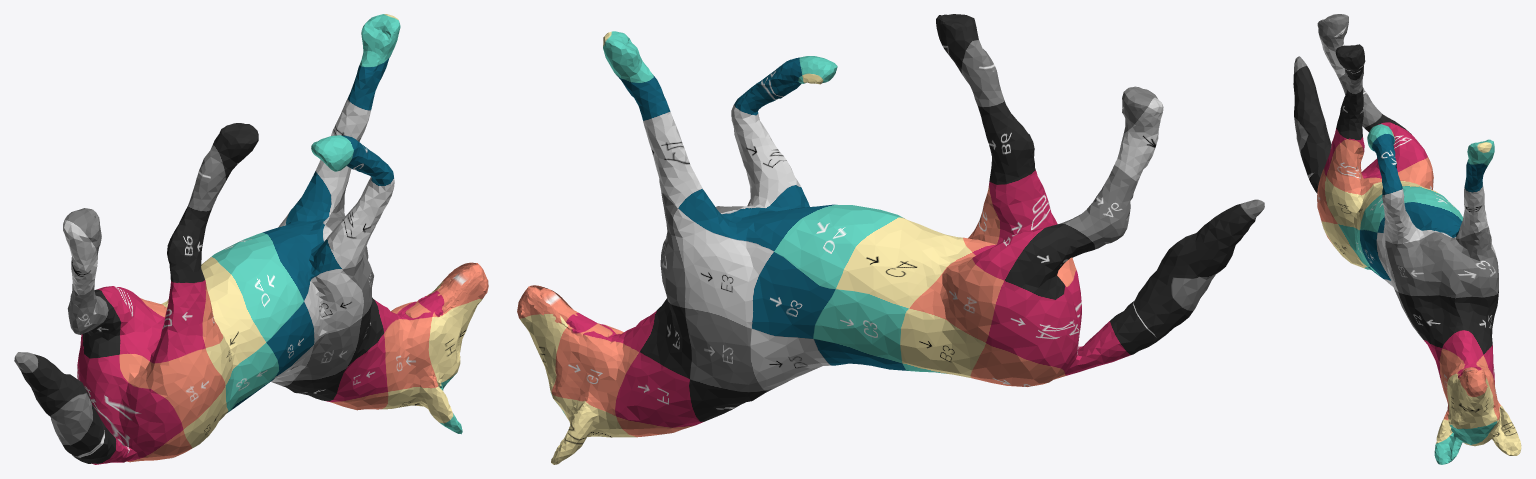
The model's file is horse_09-horse_07.obj.
3 views of the same model, side by side, from view 1: azimuth 30°, elevation 25°; view 2: azimuth 150°, elevation 25°; view 3: azimuth 270°, elevation 25° (orthographic). The views are drawn at different scales.
Parts seen in each view (by area): view 1: horse_09-horse_07_export; view 2: horse_09-horse_07_export; view 3: horse_09-horse_07_export.
Boxes of the visible parts, left/top/right/bottom form: horse_09-horse_07_export: left=14, top=14, right=488, bottom=464; horse_09-horse_07_export: left=517, top=14, right=1264, bottom=464; horse_09-horse_07_export: left=1293, top=14, right=1521, bottom=464.
Bounding box in the file's own units: 1.11 × 0.7505 × 0.4933.
